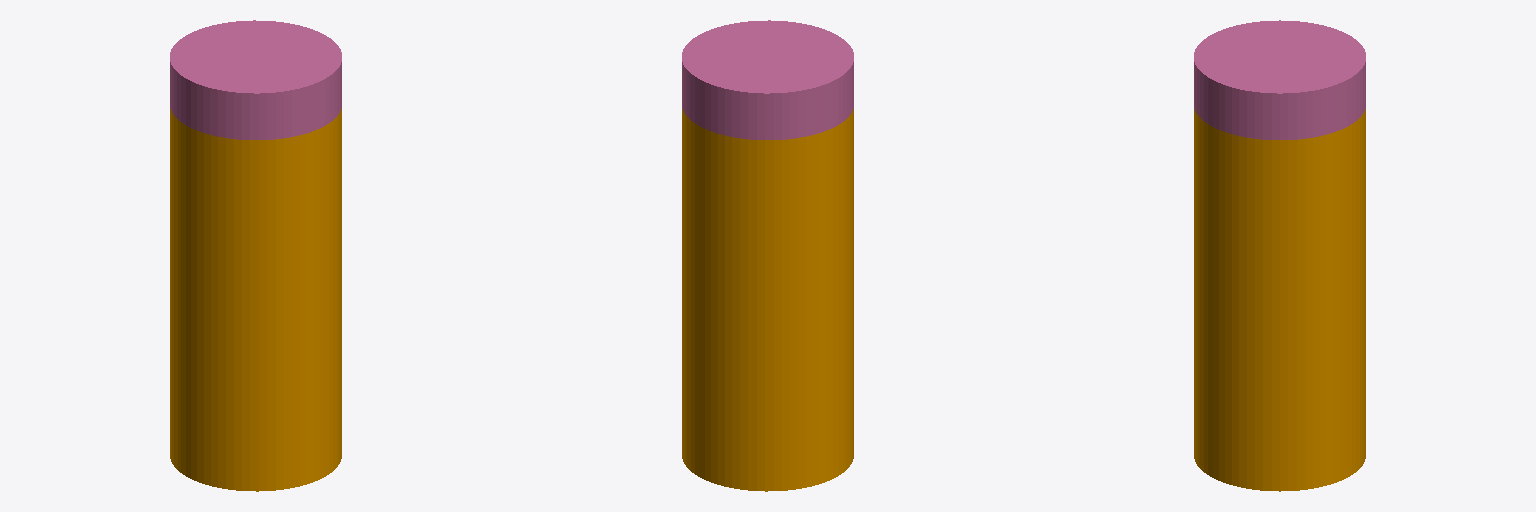
The robot description file, URDF, robot "tumbler":
<?xml version="1.0"?>
<!-- tumbler.urdf 의 6자유도 판.
     캡을 body 에 cap_spin(z회전) + cap_lift(z이동) + 여분 4개(cap_tx/ty 수평,
     cap_rx/ry 기울임) 사슬로 연결한다. 잠긴 동안 여분 4개는 screw_coupling 이
     강성 위치 드라이브로 0 에 고정하므로 기존 2자유도 판과 같은 거동이고,
     해제(180도) 순간 드라이브를 꺼서 캡이 완전 자유 강체처럼 움직인다
     (기울고, 미끄러지고, 계속 돈다). 2자유도 판은 해제 후에도 z 회전+상승만
     가능해서 손이 캡을 기울이거나 옆으로 빼낼 수 없었다.
     cap_spin 상한은 나사끝(180도)+2도 여유 (tumbler.urdf 의 주석 참조).
     해제 시 spin 한계 확장은 screw_coupling.release_bound() 가 담당한다. -->
<!-- make_cyl_tumbler.py 생성: cap r=50.2/h=30.0mm, body R=50.0/H=239.4mm, 64각 -->
<!-- spin friction 0.200 Nm -->
<robot name="tumbler">
  <link name="body">
    <visual>
      <geometry><mesh filename="meshes/tumbler_cyl_fric02_body.obj"/></geometry>
    </visual>
    <collision>
      <geometry><mesh filename="meshes/tumbler_cyl_fric02_body.obj"/></geometry>
    </collision>
    <inertial>
      <mass value="0.3"/>
      <origin xyz="0.020946 0.000643 0.134835"/>
      <inertia ixx="0.00167630" iyy="0.00206606" izz="0.00082941" ixy="0" ixz="0" iyz="0"/>
    </inertial>
  </link>

  <link name="cap_spinner">
    <inertial>
      <mass value="1e-4"/>
      <inertia ixx="1e-8" iyy="1e-8" izz="1e-8" ixy="0" ixz="0" iyz="0"/>
    </inertial>
  </link>
  <joint name="cap_spin" type="revolute">
    <parent link="body"/>
    <child link="cap_spinner"/>
    <origin xyz="0 0 0.225000"/>
    <axis xyz="0 0 1"/>
    <limit lower="-0.020000" upper="3.176499" effort="50.0" velocity="20.0"/>
    <dynamics damping="0.001" friction="0.200"/>
  </joint>

  <link name="cap_lifter">
    <inertial>
      <mass value="1e-4"/>
      <inertia ixx="1e-8" iyy="1e-8" izz="1e-8" ixy="0" ixz="0" iyz="0"/>
    </inertial>
  </link>
  <joint name="cap_lift" type="prismatic">
    <parent link="cap_spinner"/>
    <child link="cap_lifter"/>
    <origin xyz="0 0 0"/>
    <axis xyz="0 0 1"/>
    <limit lower="0.0" upper="0.13" effort="100.0" velocity="5.0"/>
    <mimic joint="cap_spin" multiplier="3.18309886e-03" offset="0.0"/>
  </joint>

  <!-- 여분 4자유도. 잠긴 동안 screw_coupling 이 강성 드라이브로 0 고정. -->
  <link name="cap_fx">
    <inertial>
      <mass value="1e-4"/>
      <inertia ixx="1e-8" iyy="1e-8" izz="1e-8" ixy="0" ixz="0" iyz="0"/>
    </inertial>
  </link>
  <joint name="cap_tx" type="prismatic">
    <parent link="cap_lifter"/>
    <child link="cap_fx"/>
    <origin xyz="0 0 0"/>
    <axis xyz="1 0 0"/>
    <limit lower="-0.5" upper="0.5" effort="100.0" velocity="5.0"/>
  </joint>

  <link name="cap_fy">
    <inertial>
      <mass value="1e-4"/>
      <inertia ixx="1e-8" iyy="1e-8" izz="1e-8" ixy="0" ixz="0" iyz="0"/>
    </inertial>
  </link>
  <joint name="cap_ty" type="prismatic">
    <parent link="cap_fx"/>
    <child link="cap_fy"/>
    <origin xyz="0 0 0"/>
    <axis xyz="0 1 0"/>
    <limit lower="-0.5" upper="0.5" effort="100.0" velocity="5.0"/>
  </joint>

  <link name="cap_frx">
    <inertial>
      <mass value="1e-4"/>
      <inertia ixx="1e-8" iyy="1e-8" izz="1e-8" ixy="0" ixz="0" iyz="0"/>
    </inertial>
  </link>
  <joint name="cap_rx" type="revolute">
    <parent link="cap_fy"/>
    <child link="cap_frx"/>
    <origin xyz="0 0 0"/>
    <axis xyz="1 0 0"/>
    <limit lower="-3.1416" upper="3.1416" effort="50.0" velocity="20.0"/>
  </joint>

  <joint name="cap_ry" type="revolute">
    <parent link="cap_frx"/>
    <child link="cap"/>
    <origin xyz="0 0 0"/>
    <axis xyz="0 1 0"/>
    <limit lower="-3.1416" upper="3.1416" effort="50.0" velocity="20.0"/>
  </joint>

  <link name="cap">
    <visual>
      <geometry><mesh filename="meshes/tumbler_cyl_fric02_cap.obj"/></geometry>
    </visual>
    <collision>
      <geometry><mesh filename="meshes/tumbler_cyl_fric02_cap.obj"/></geometry>
    </collision>
    <inertial>
      <mass value="0.05"/>
      <origin xyz="-0.000048 0.000284 0.015506"/>
      <inertia ixx="0.00004334" iyy="0.00004411" izz="0.00008291" ixy="0" ixz="0" iyz="0"/>
    </inertial>
  </link>

  <!-- 매끈한 원통이라 그대로는 미끄럽다. 나사산 대신 마찰로 그립을 만든다. -->
  <gazebo reference="cap"><mu1>2.0</mu1><mu2>2.0</mu2></gazebo>
  <gazebo reference="body"><mu1>2.0</mu1><mu2>2.0</mu2></gazebo>
</robot>

--- What the picture shows (computed from the rendered views, not written in the file) ---
The picture shows the robot from 3 angles, left to right: view 1: azimuth 30°, elevation 25°; view 2: azimuth 150°, elevation 25°; view 3: azimuth 270°, elevation 25°; orthographic projection.
Robot: tumbler — 7 links, 6 joints (3 revolute, 3 prismatic); root link body; default pose: every joint at zero.
Visible links, largest first — view 1: body, cap; view 2: body, cap; view 3: body, cap.
Boxes of the visible links, x1,y1,x2,y2 form: body: (170,109,341,491); cap: (170,20,341,139); body: (682,109,853,491); cap: (682,20,853,139); body: (1194,109,1365,491); cap: (1194,20,1365,139).
Bounding box of the posed robot: 0.1004 × 0.1004 × 0.255 m (x, y, z).
2 mesh visuals loaded from 2 distinct referenced files (2 OBJ).
